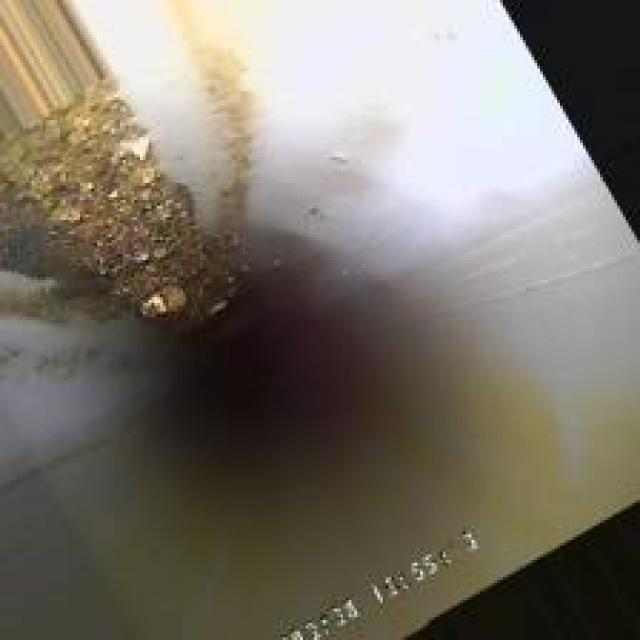stone: (108, 263, 203, 343)
